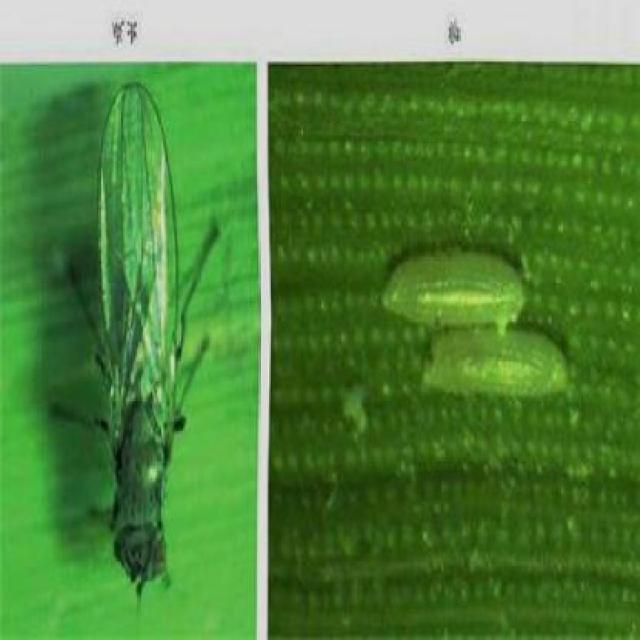whorl-maggot: (416, 326, 582, 411), (374, 242, 528, 333)
